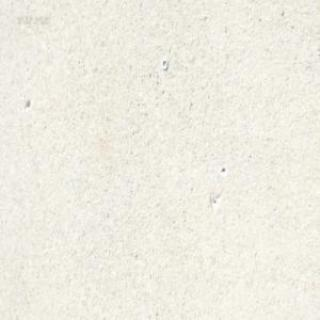Washertrack_idkeyframe: (160, 57, 168, 70)
